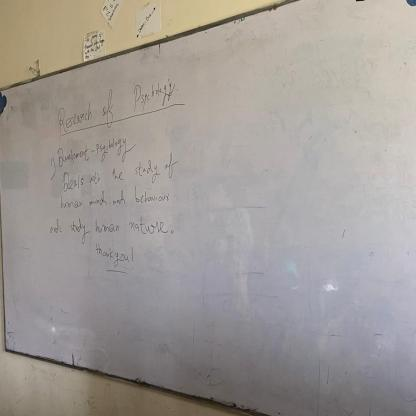Handwritten text: (46, 68, 189, 137), (56, 148, 180, 194), (45, 205, 169, 244), (56, 183, 174, 215), (53, 131, 136, 169), (92, 241, 131, 274)
Whiteboard: (1, 0, 416, 416)
